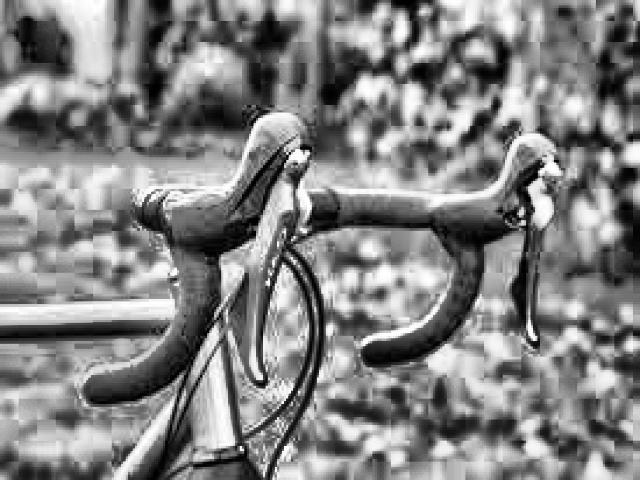sti_shifter: (227, 108, 315, 390), (503, 135, 562, 354)
